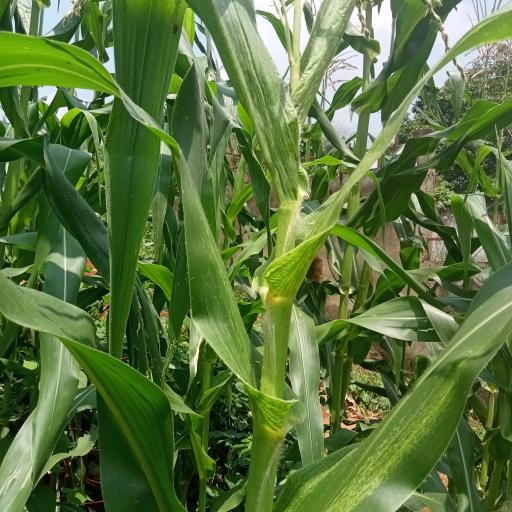Corn_Streak: (24, 0, 290, 406), (278, 278, 512, 510)
